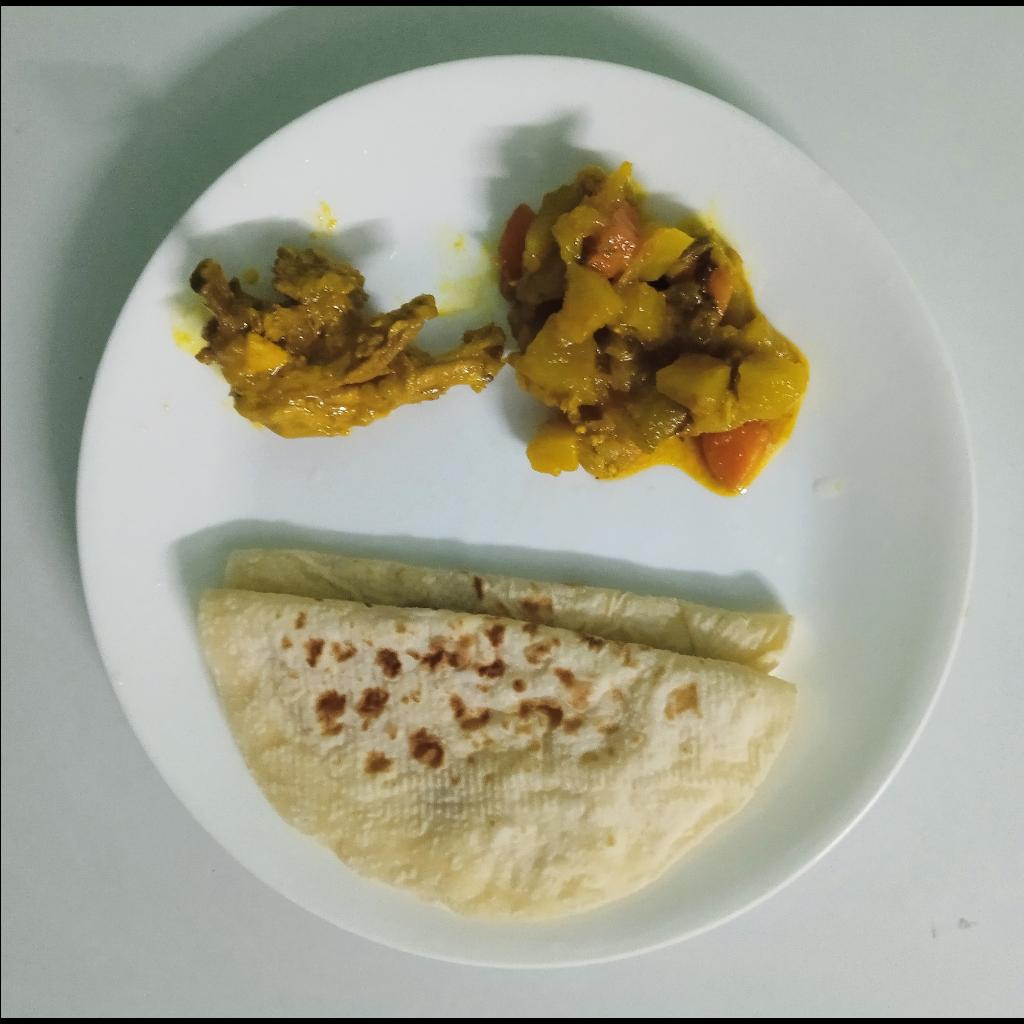chicken: (190, 247, 506, 443)
ruti: (192, 549, 799, 925)
vegetable: (494, 162, 809, 495)
